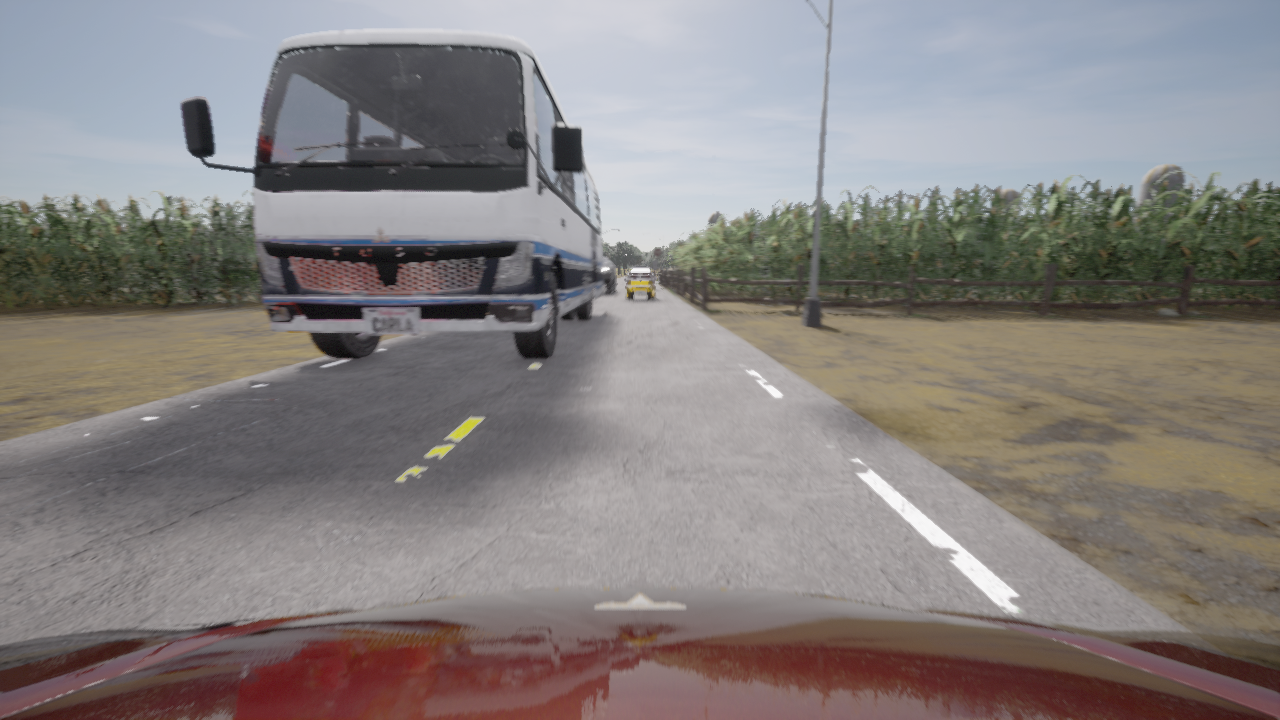cyclist: (0, 588, 1279, 719), (181, 29, 602, 359), (624, 269, 655, 300), (602, 258, 615, 294), (627, 269, 653, 278)
